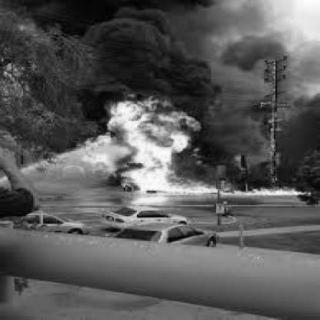Smoke: (59, 2, 242, 86)
